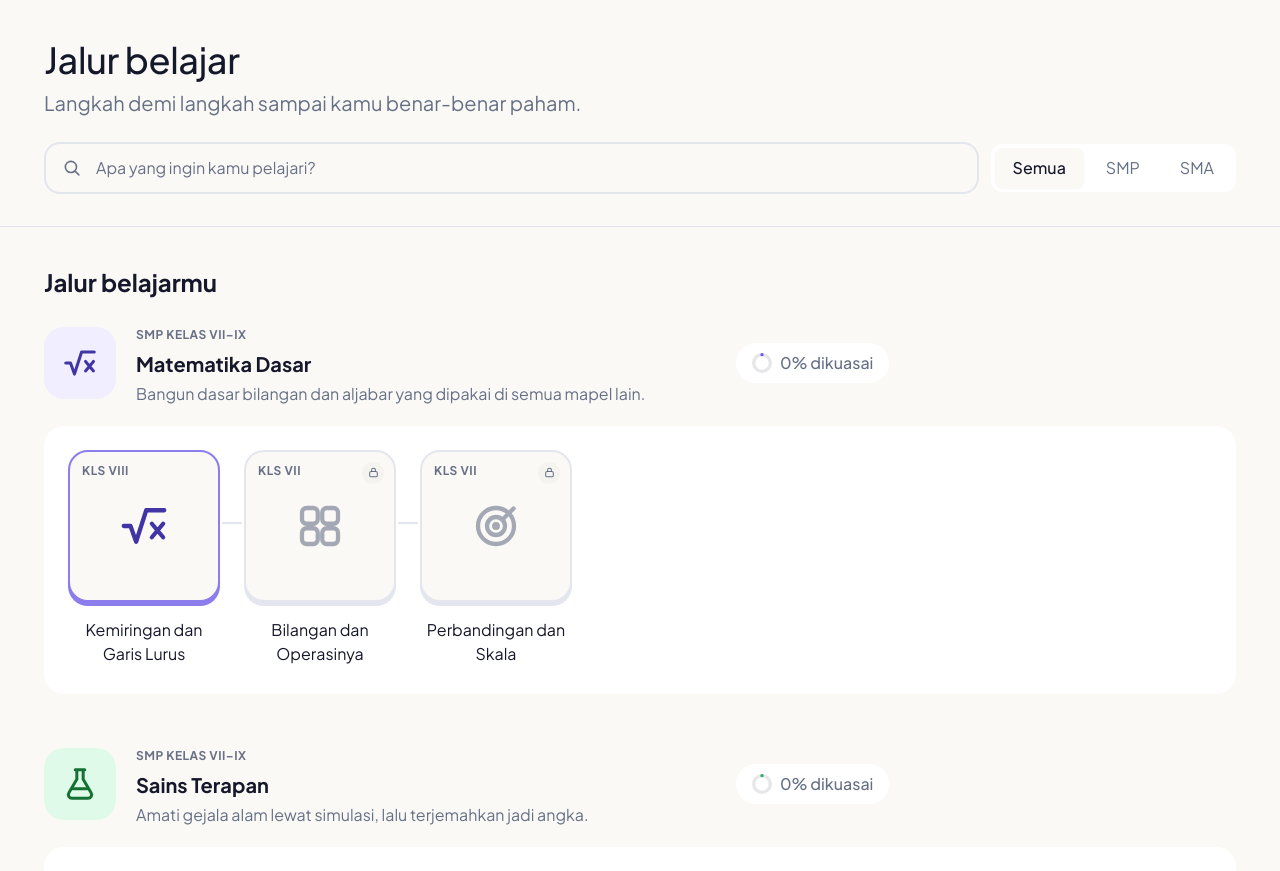
Scenario: layar Belajar › memberi tahu saat tidak ada yang cocok, bukan menampilkan daftar kosong
Step 1. Type "zzzz" into the search field named "Cari jalur" → point(527, 168), box x1=94 y1=155 x2=961 y2=181
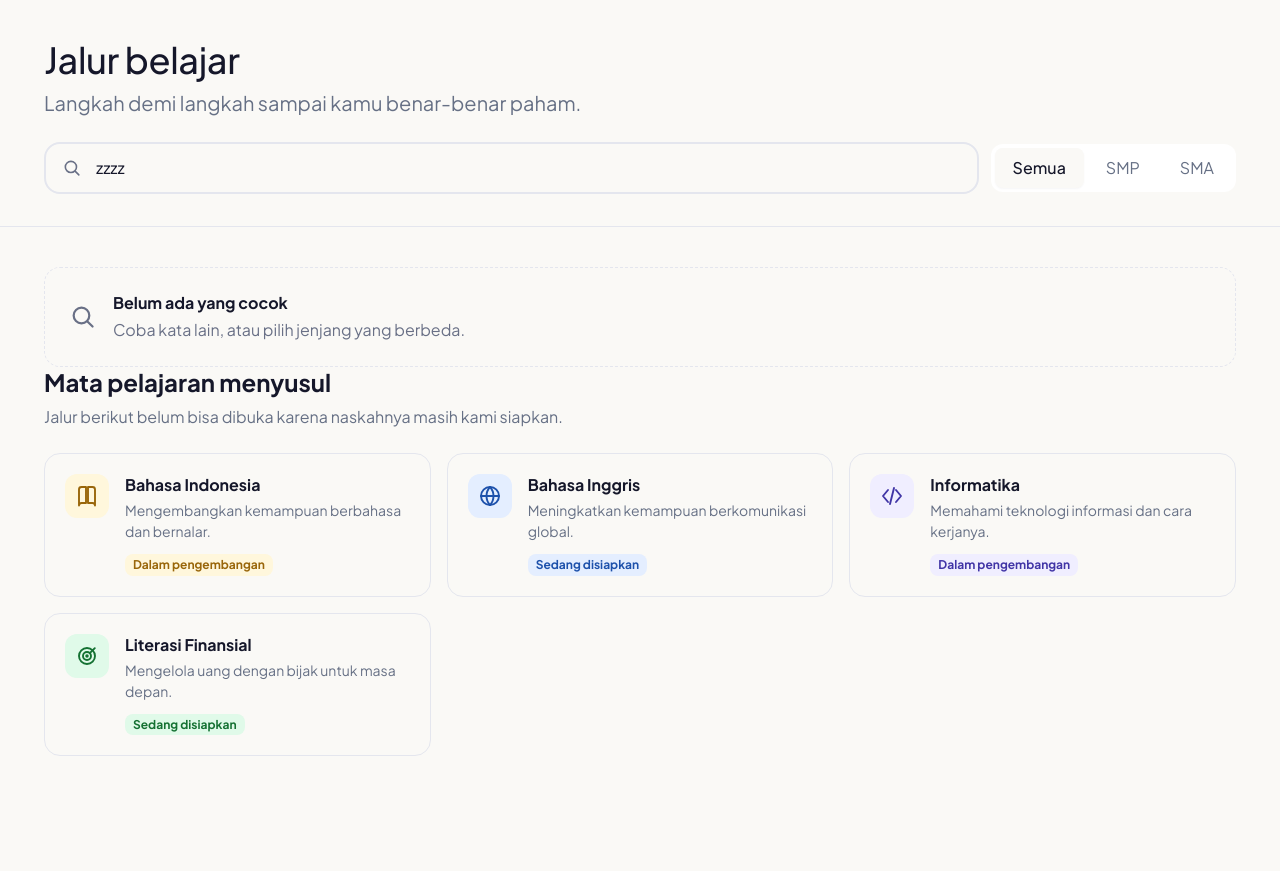
Expected: the text "Belum ada yang cocok" is shown, x1=113 y1=292 x2=288 y2=313
